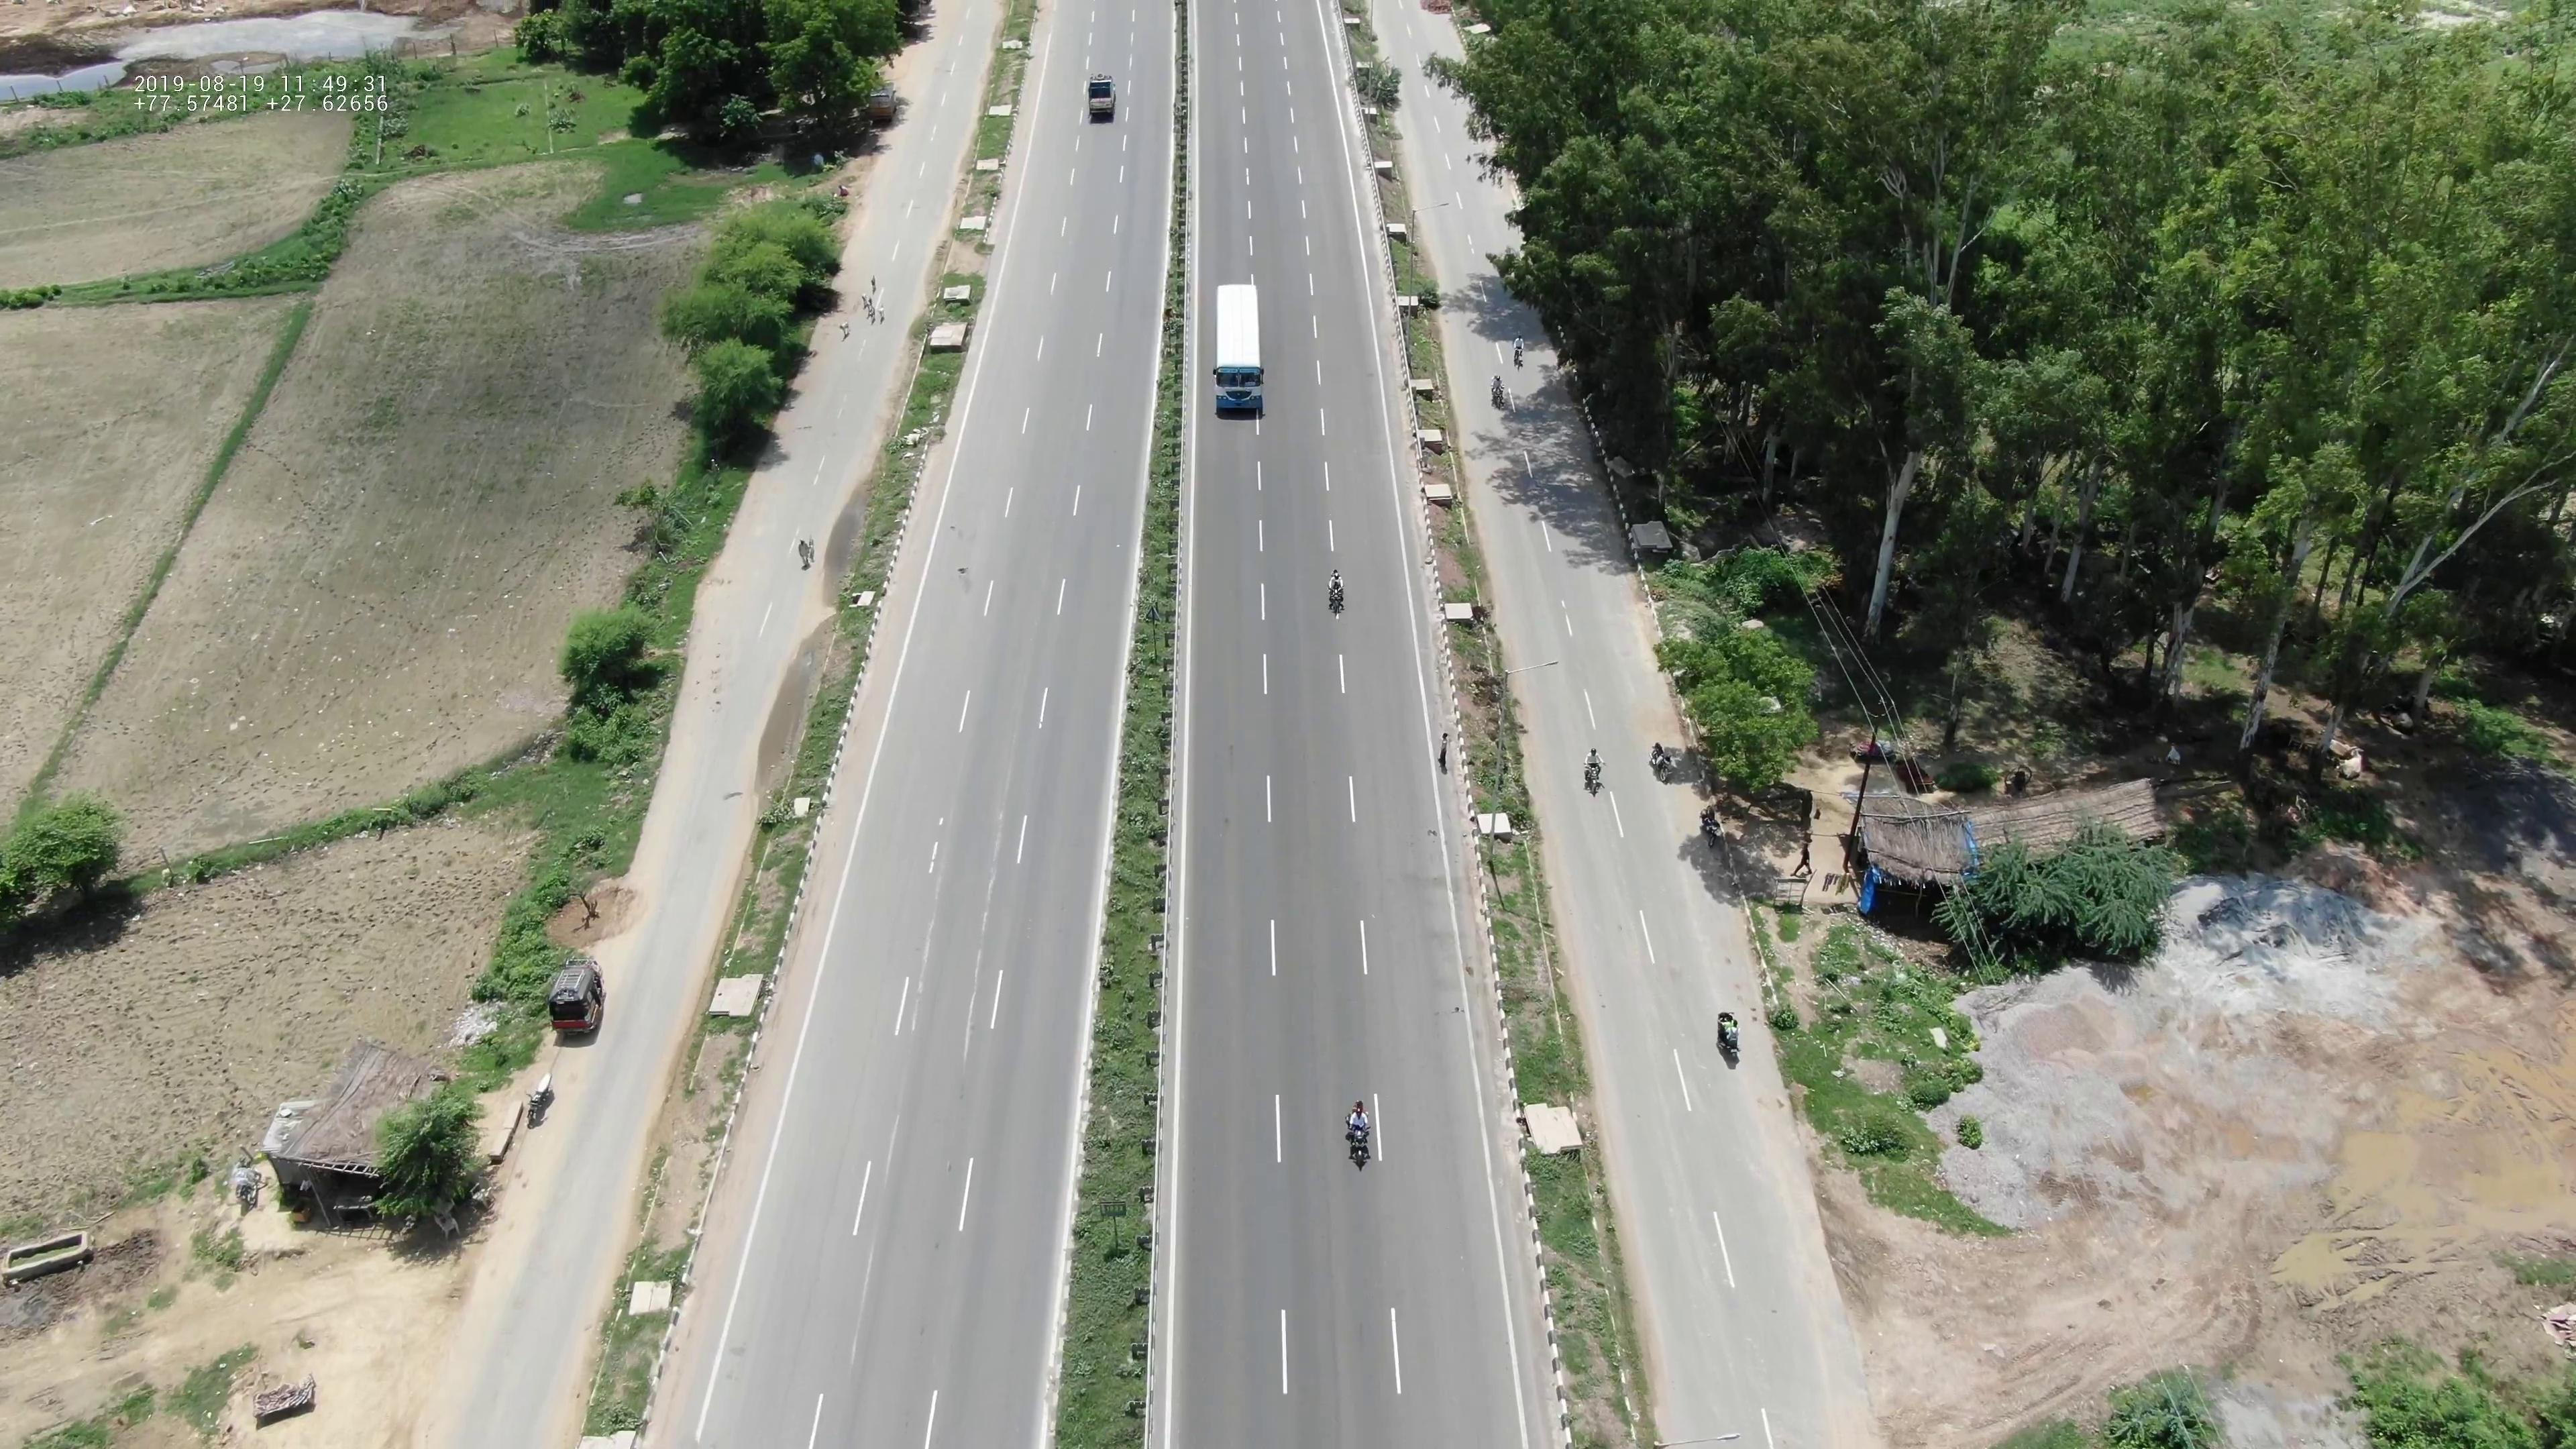Longitudinal_cracks: (961, 819, 1003, 1072)
